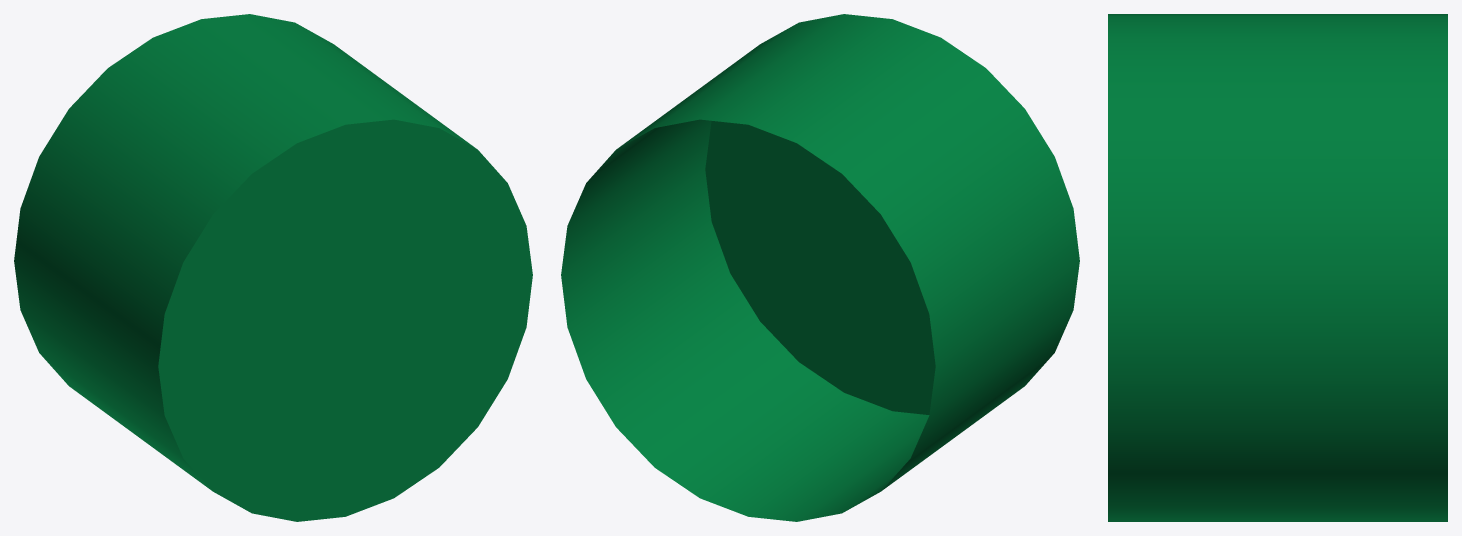
The model's file is original-16.obj.
3 views of the same model, side by side, from view 1: azimuth 30°, elevation 25°; view 2: azimuth 150°, elevation 25°; view 3: azimuth 270°, elevation 25° (orthographic). The views are drawn at different scales.
Parts seen in each view (by area): view 1: #ID314; view 2: #ID314; view 3: #ID314.
Part boxes in pixels (<box>): #ID314: <box>14,14,532,521</box>; #ID314: <box>561,14,1079,521</box>; #ID314: <box>1108,14,1447,521</box>.
Bounding box in the file's own units: 0.1153 × 0.1153 × 0.0769.
